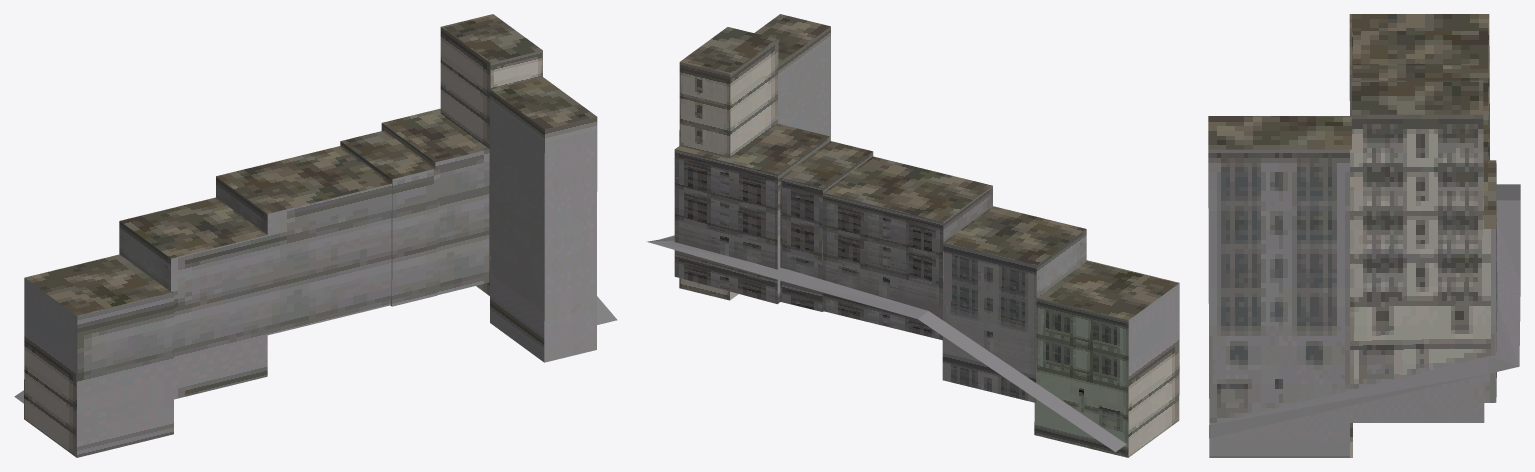
The model's file is lodkcut_sfw04.obj.
3 renders of one model, left to right at view 1: azimuth 30°, elevation 25°; view 2: azimuth 150°, elevation 25°; view 3: azimuth 270°, elevation 25°, orthographic. The views are drawn at different scales.
Parts seen in each view (by area): view 1: LODkcut_sfw04; view 2: LODkcut_sfw04; view 3: LODkcut_sfw04.
Part boxes in pixels (bbox=[...]): LODkcut_sfw04: bbox=[14, 14, 617, 457]; LODkcut_sfw04: bbox=[646, 14, 1179, 457]; LODkcut_sfw04: bbox=[1208, 14, 1520, 457].
Bounding box in the file's own units: 94.77 × 54.55 × 39.84.
Materials: 10 (10 with a texture image).
